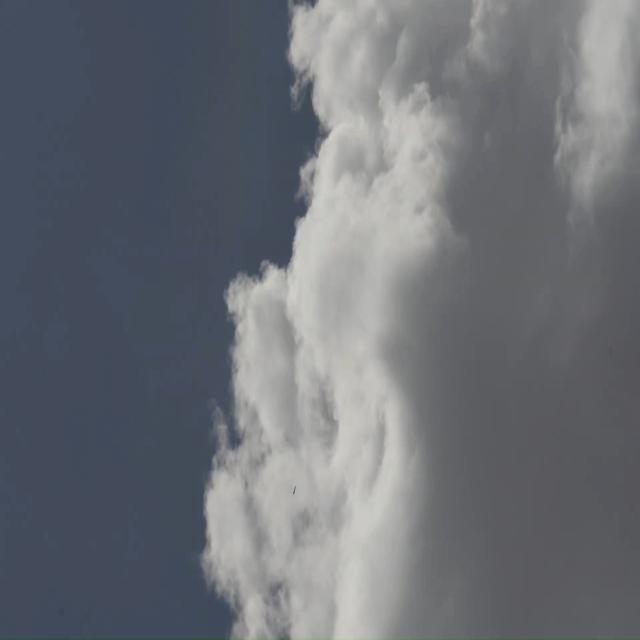Rocket: (292, 485, 296, 496)
